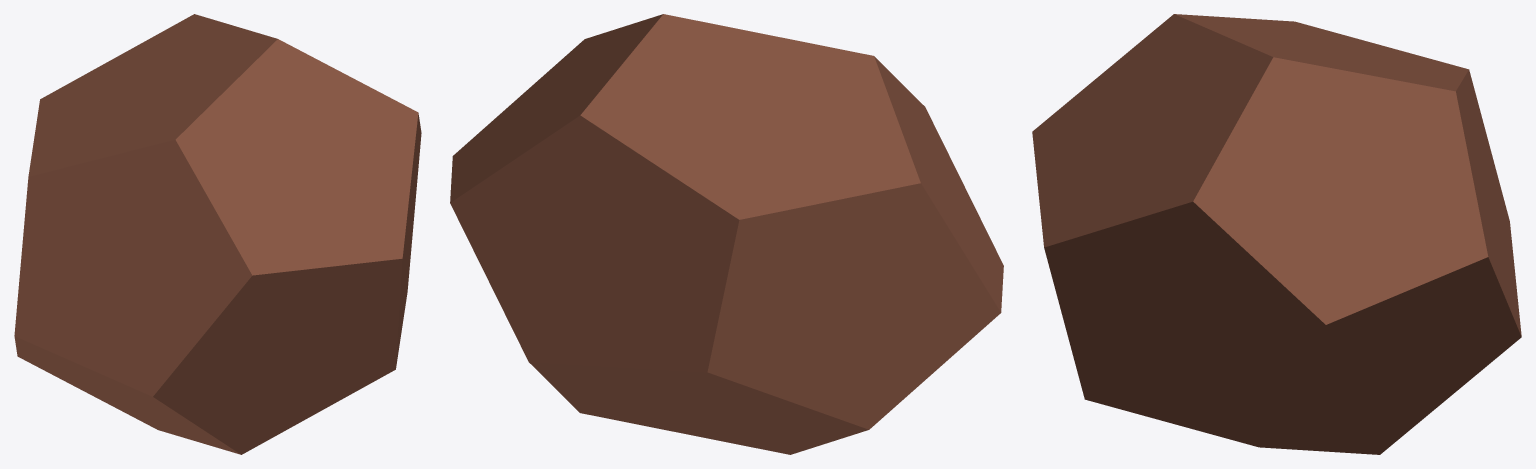
File: rock.glb
3 renders of one model, left to right at view 1: azimuth 30°, elevation 25°; view 2: azimuth 150°, elevation 25°; view 3: azimuth 270°, elevation 25°, orthographic. The views are drawn at different scales.
Visible parts, largest first — view 1: Basalt; view 2: Basalt; view 3: Basalt.
Boxes of the visible parts, box(x1,y1,x2,y2) form: Basalt: box(14, 14, 421, 454); Basalt: box(450, 14, 1003, 454); Basalt: box(1032, 14, 1521, 454).
Bounding box in the file's own units: 1.54 × 1.19 × 1.26.
